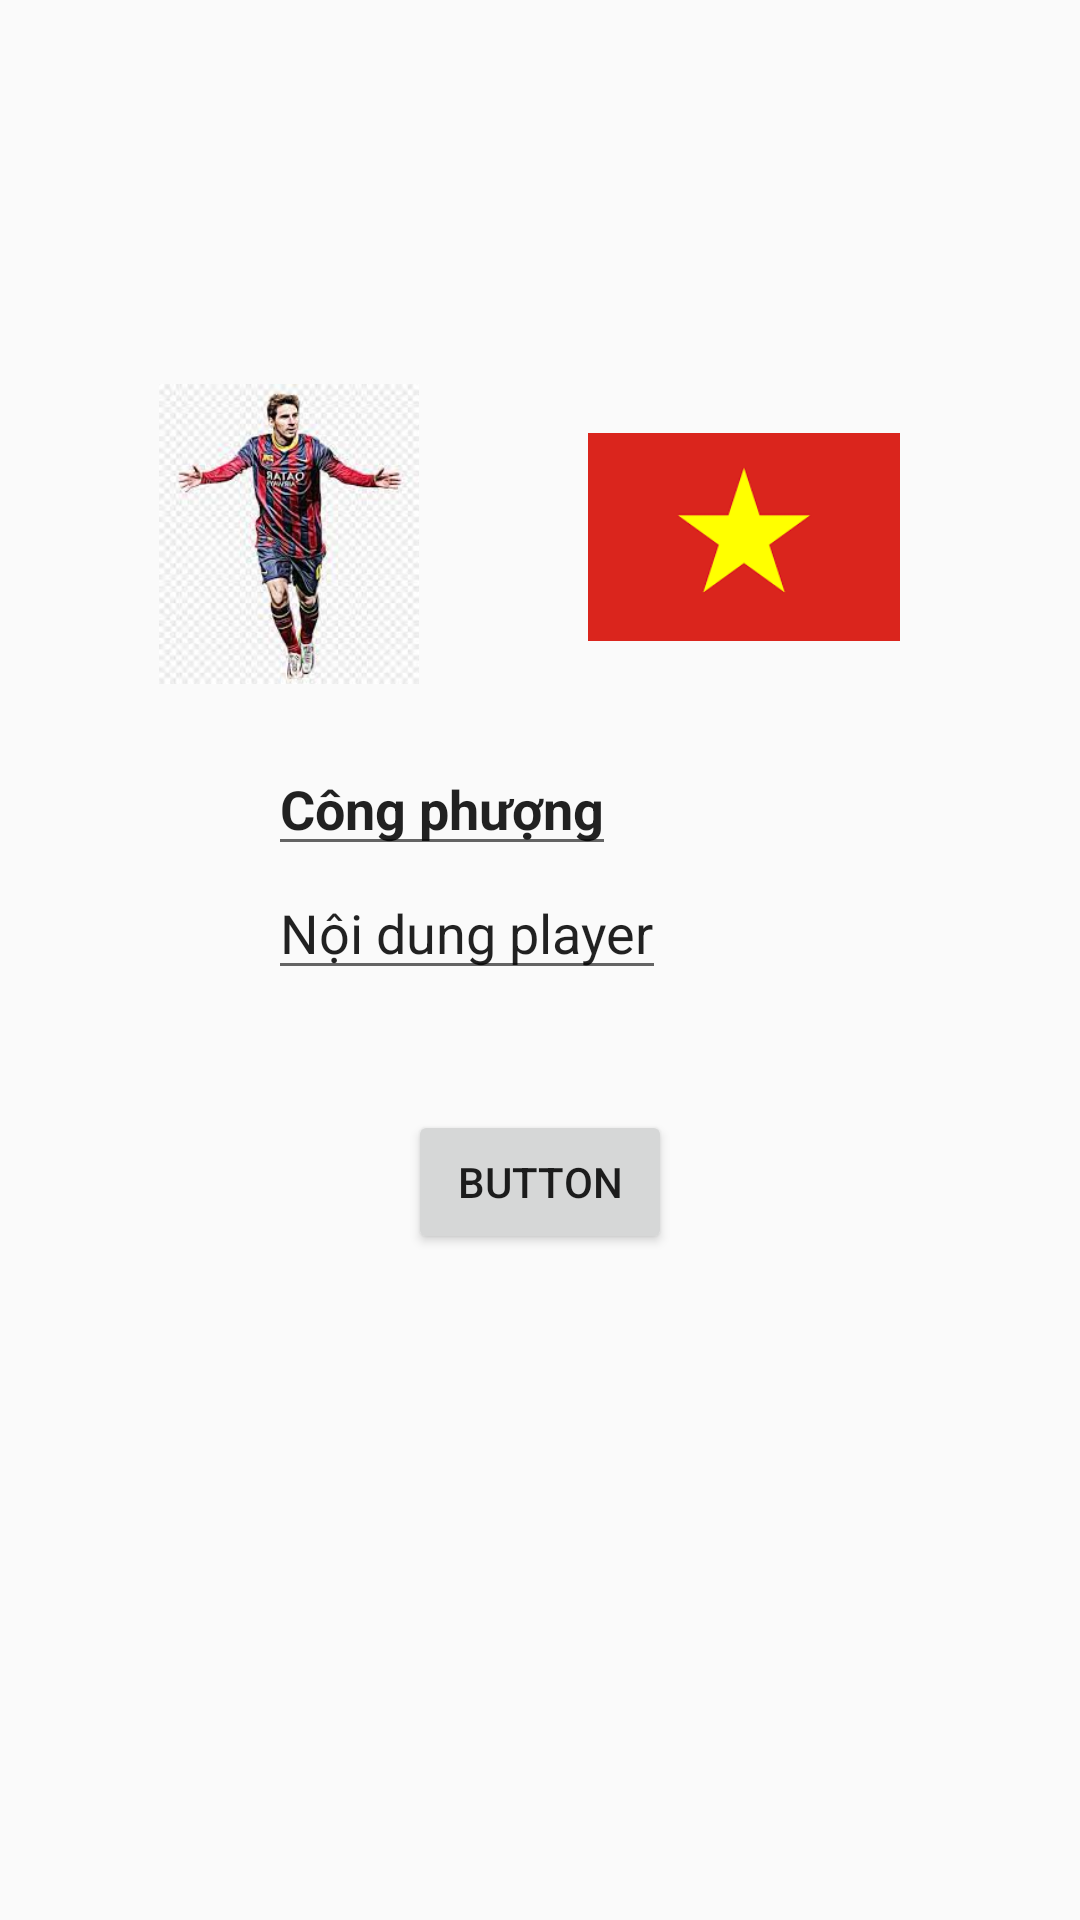

Icon bounding boxes for this 1080w x 1920h phone screenshot, format [x1, y1, x2, y2]:
vietnam: [588, 433, 900, 641]
